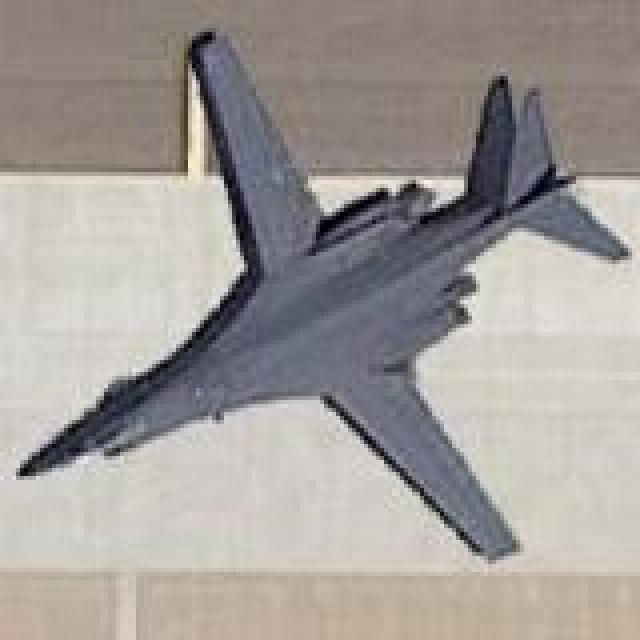B-1_TopDown: (12, 24, 632, 564)
